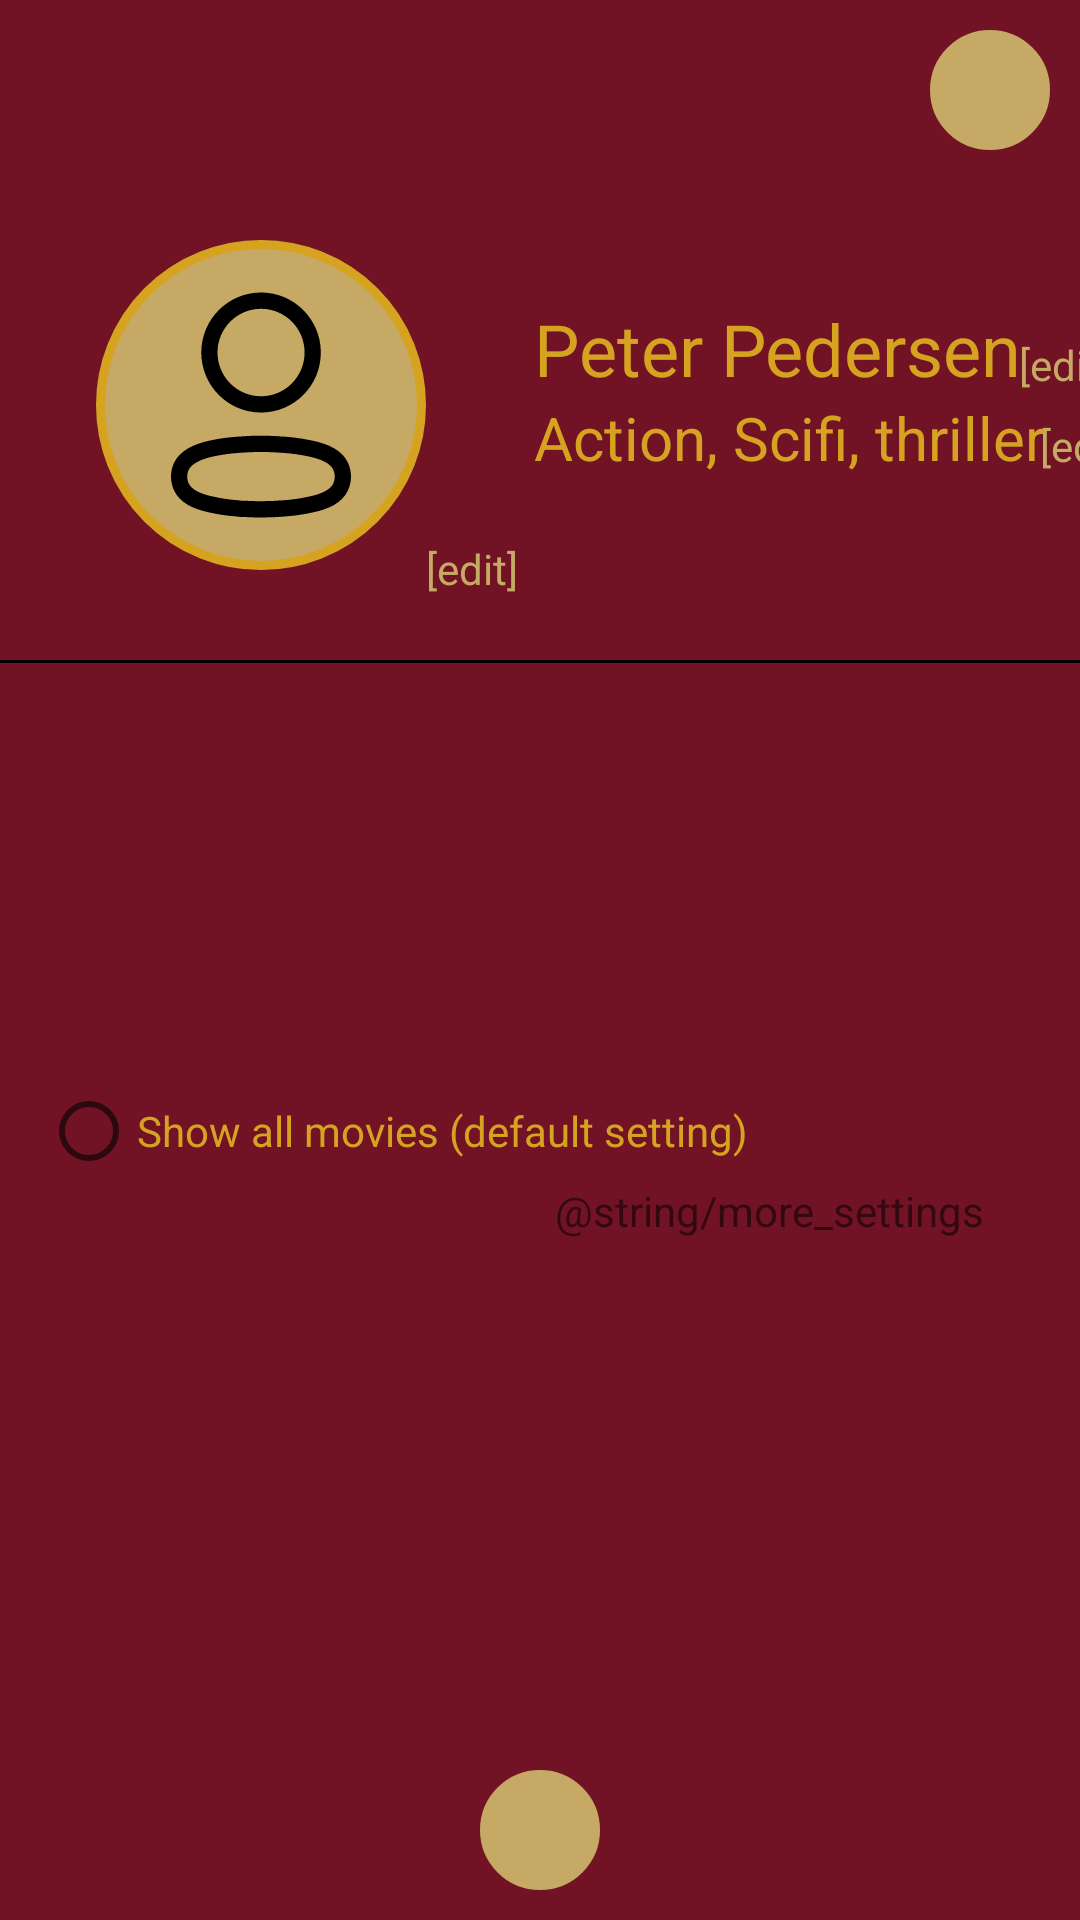

Icon click points for this 1080px x 1920px phone screenshot, format (x,y):
profile: (261,405)
